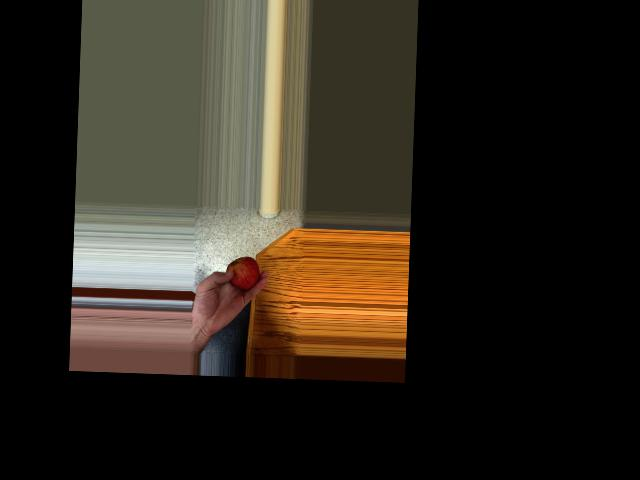apple: (226, 254, 261, 292)
